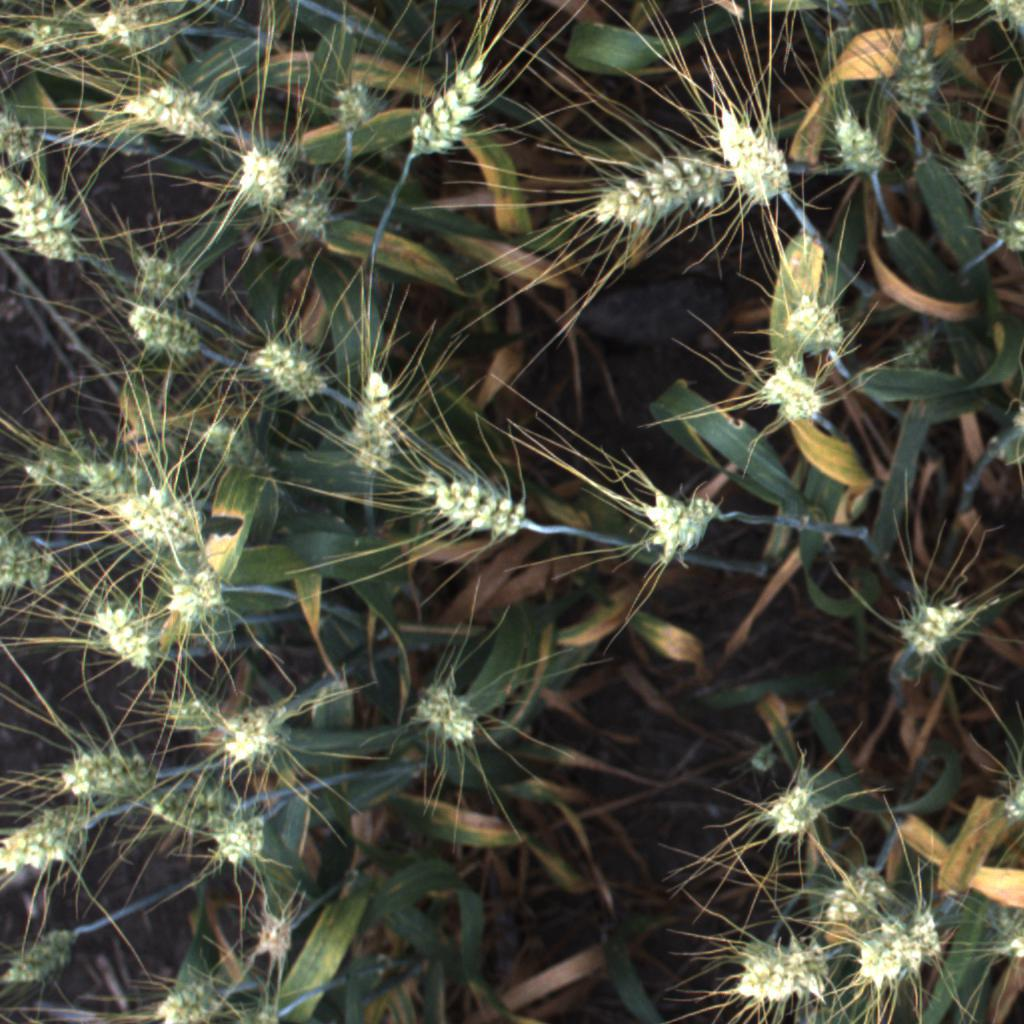0-0: (569, 121, 746, 251), (404, 462, 550, 555), (697, 90, 803, 214), (390, 47, 503, 160), (717, 919, 844, 1012), (397, 660, 503, 770), (623, 468, 726, 578), (875, 572, 984, 674), (741, 754, 850, 850), (0, 151, 89, 268), (741, 346, 844, 443), (103, 481, 221, 563), (764, 282, 864, 375), (240, 330, 343, 420), (74, 589, 180, 675), (110, 86, 237, 156), (340, 364, 409, 485), (853, 904, 949, 988), (135, 782, 257, 846), (44, 739, 173, 799), (880, 15, 951, 122), (0, 912, 86, 999), (0, 806, 101, 880), (107, 300, 217, 367), (818, 94, 891, 190), (66, 445, 166, 515), (9, 436, 105, 503), (206, 803, 285, 884), (808, 864, 898, 933), (136, 969, 242, 1024), (144, 682, 235, 745), (0, 520, 71, 599), (79, 0, 182, 54), (211, 711, 294, 773), (320, 64, 386, 140), (121, 245, 198, 308), (240, 902, 310, 971), (223, 144, 295, 209), (267, 184, 342, 246), (167, 557, 233, 624), (13, 9, 93, 64), (209, 429, 277, 487), (0, 103, 59, 167), (957, 144, 1004, 196), (967, 0, 1024, 36)
